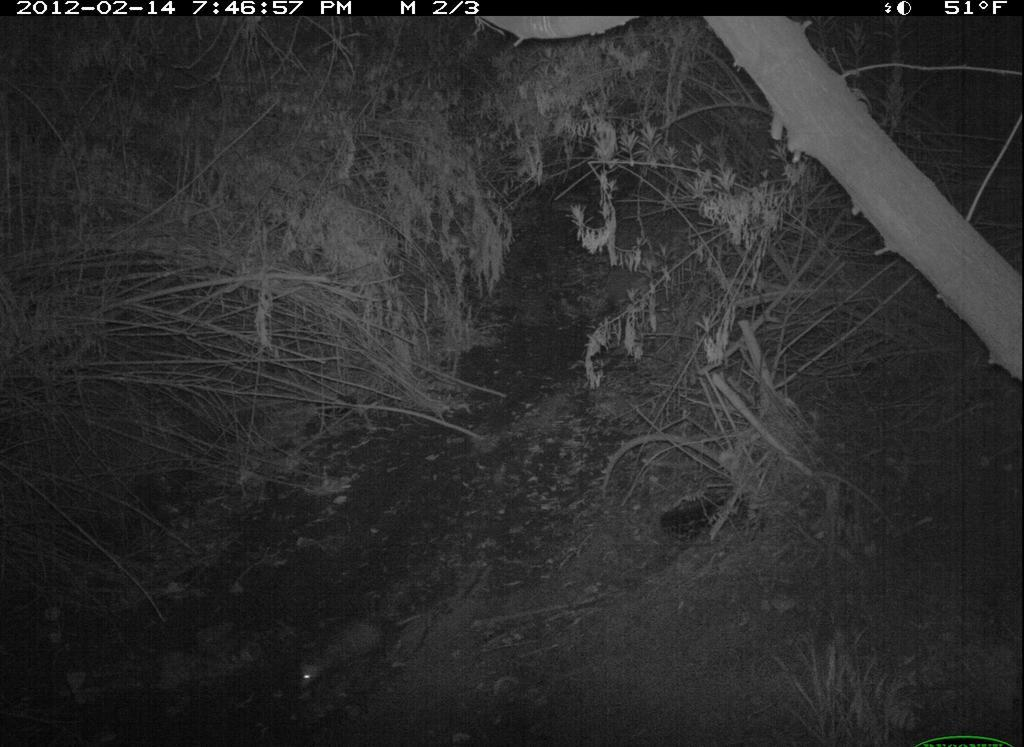opossum: (285, 601, 440, 701)
